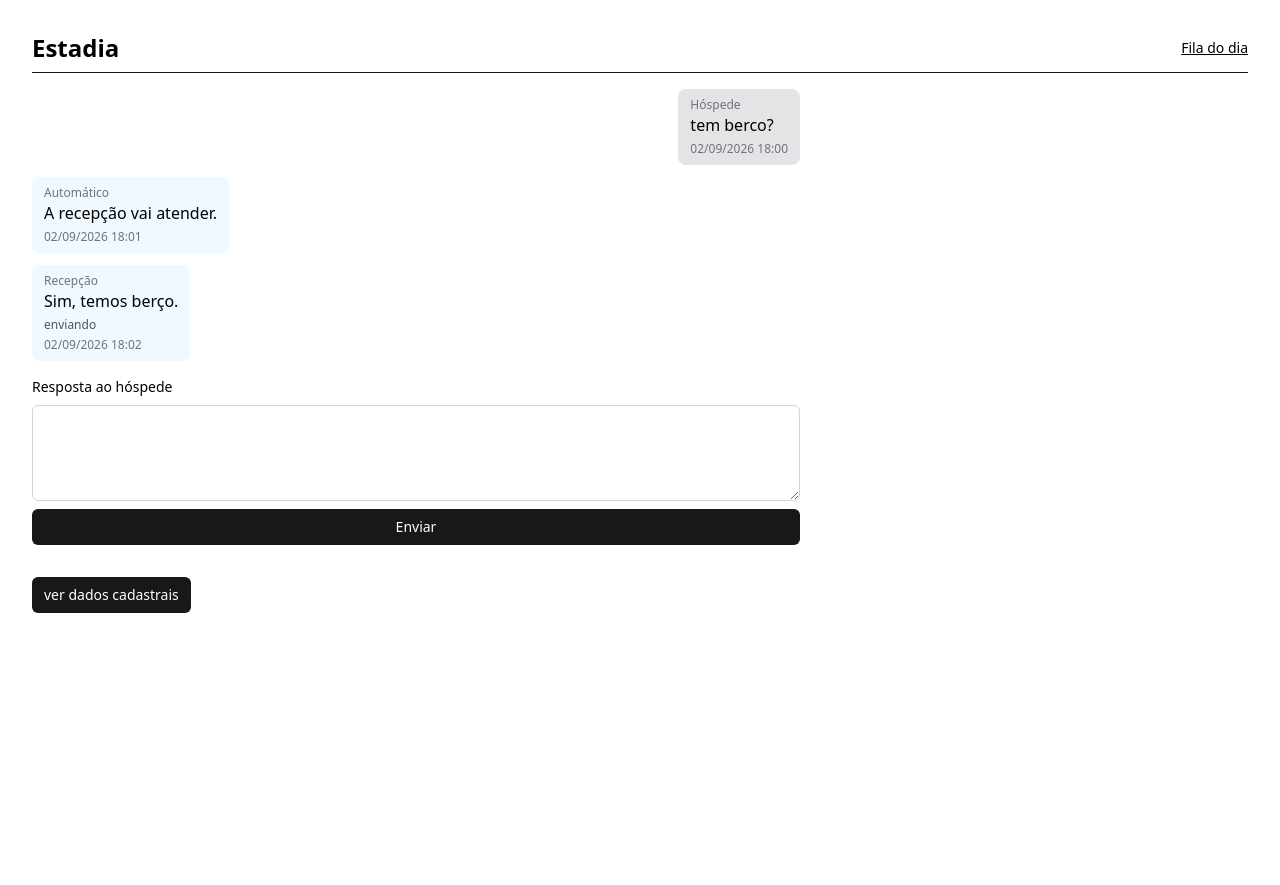
it: TelaEstadia › ver dados cadastrais dispara o GET da ficha e o copiar permanece no bloco
Click the button "ver dados cadastrais": (111, 595) left=32, top=577, right=191, bottom=613
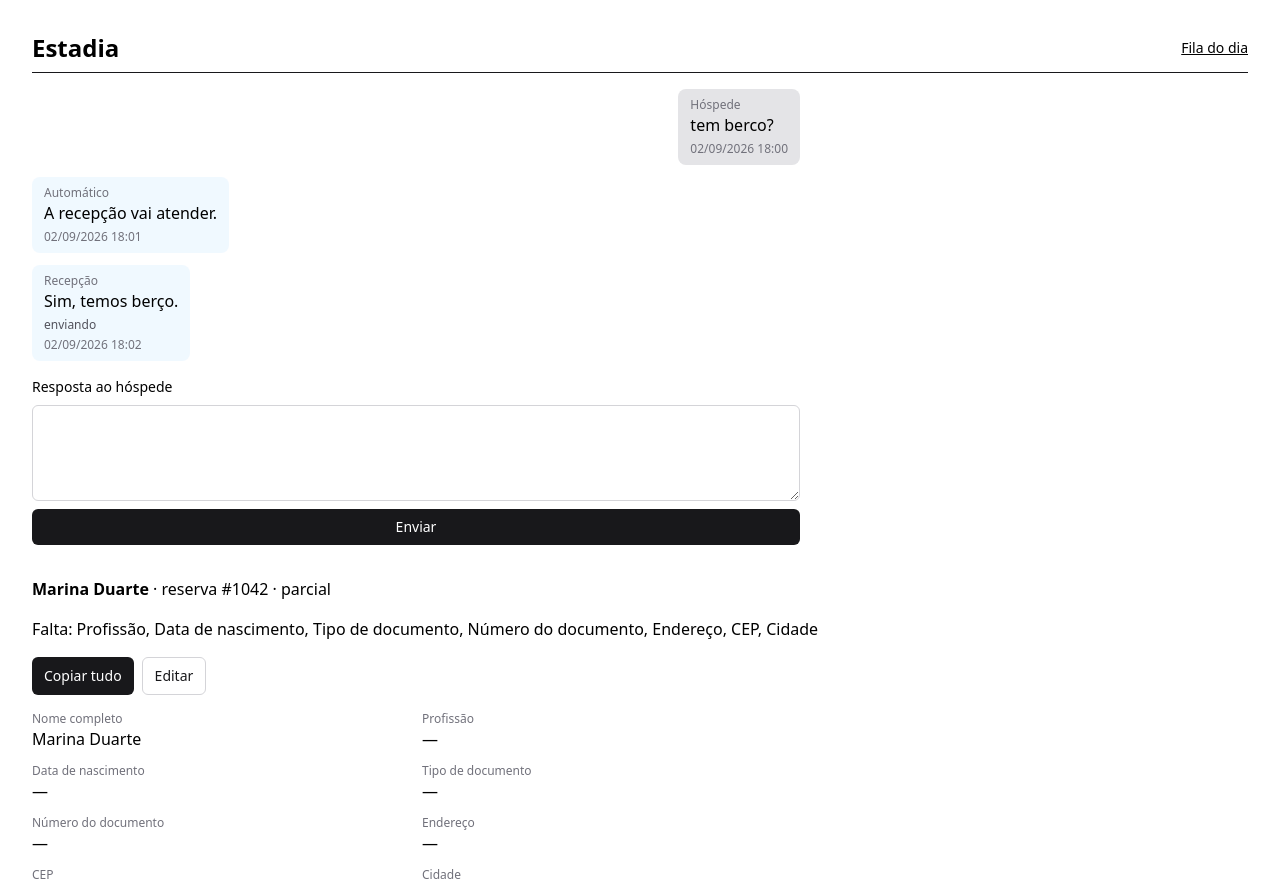
Expected: the text "Marina Duarte" next to "· reserva #1042 ·" is shown, left=32, top=578, right=149, bottom=600
Expected: the button "Copiar tudo" is shown, left=32, top=657, right=134, bottom=695
